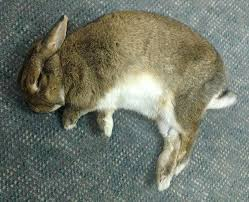bunny: (15, 8, 244, 196)
